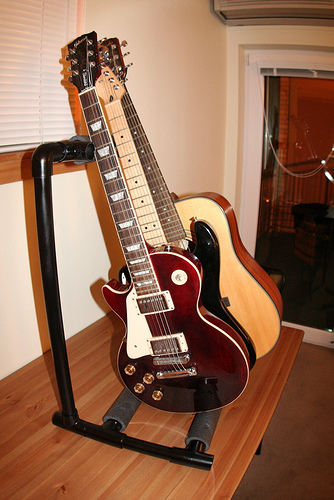guitar: (60, 30, 250, 415), (99, 32, 283, 366), (89, 58, 170, 248)
